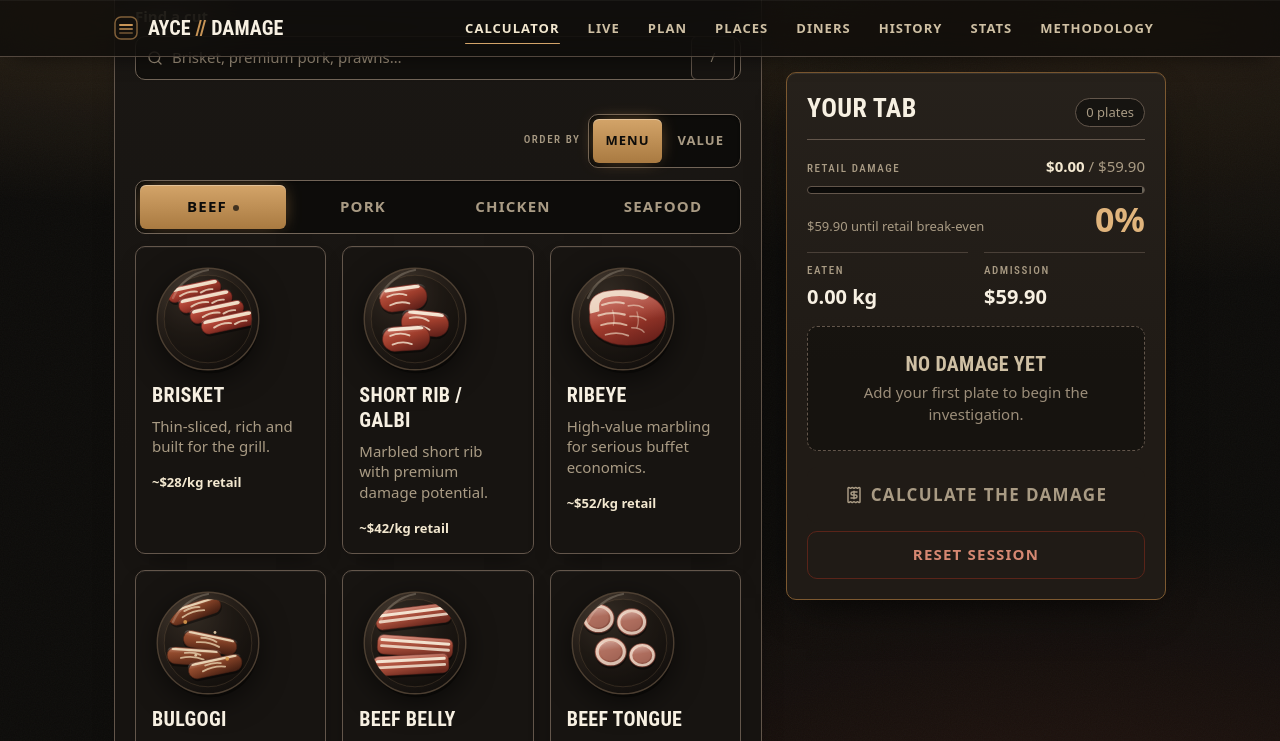
Test case: CalculatorApp › disables Calculate until the meal has an item
(page scrolled)
Expected: the button "Calculate the damage" is disabled, top-left (807, 467), bottom-right (1145, 523)
Click the button "Ribeye" at (645, 400), box top-left (550, 246), bottom-right (741, 554)
(page scrolled)
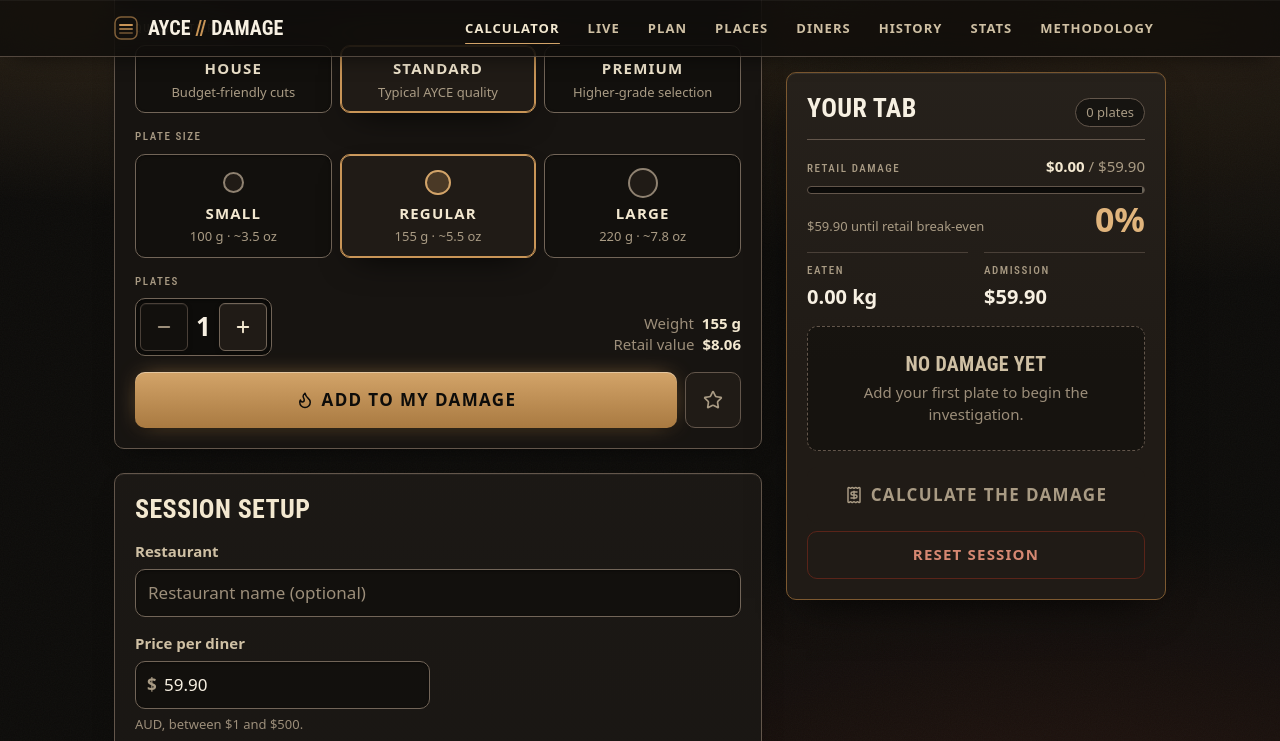
Click the button "Add to my damage" at (406, 400), box top-left (135, 372), bottom-right (677, 428)
(page scrolled)
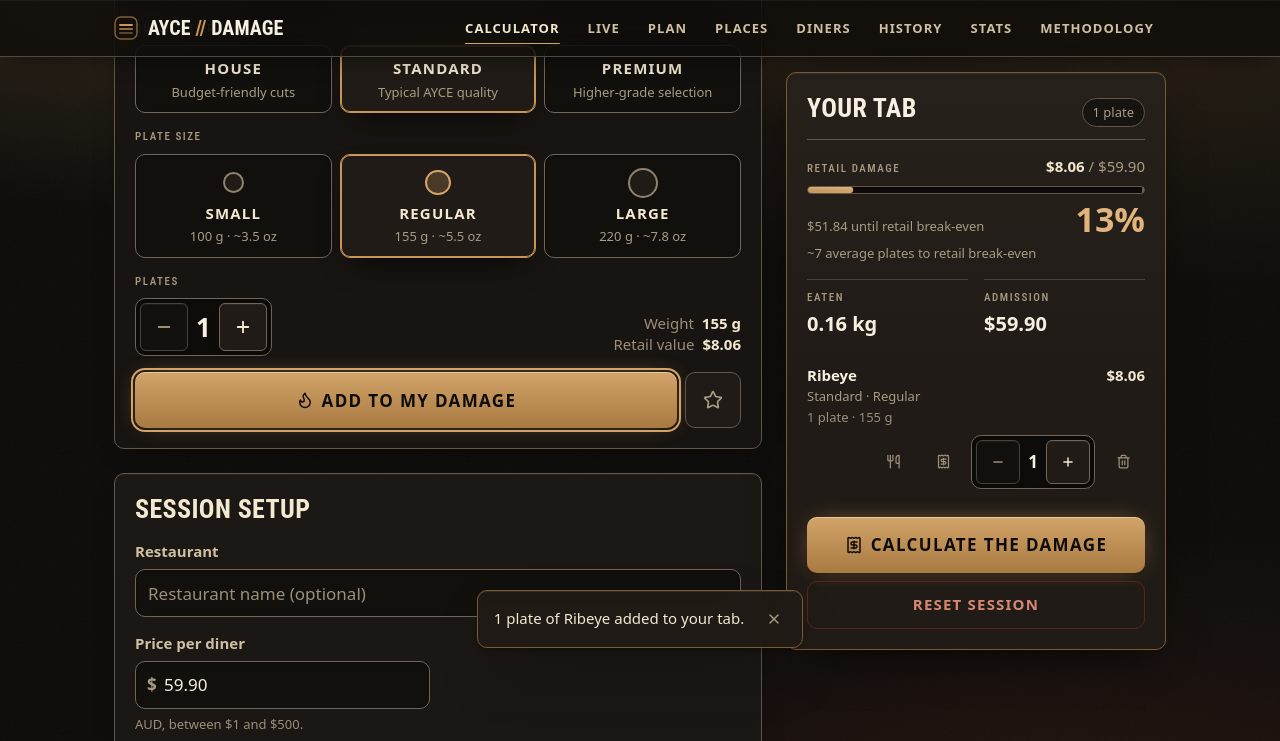
Result: the button "Calculate the damage" is enabled at top-left (807, 516), bottom-right (1145, 572)
